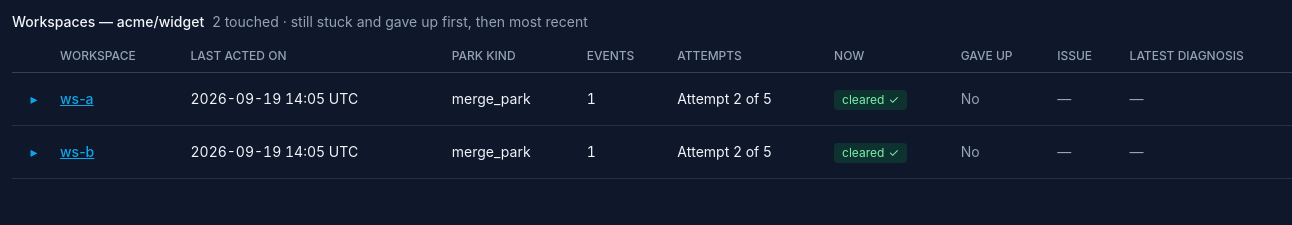
Scenario: UnblockerWorkspacesTable — expandable events › expands one workspace without expanding another
This screenshot has width=1292, height=225.
Click the button "▸" next to "ws-a": (34, 99) x1=12 y1=77 x2=56 y2=121
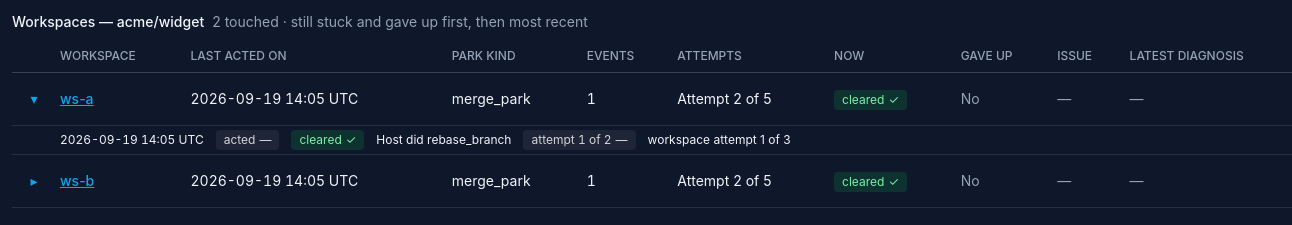
Expected: the row with test id "unblocker-event-1" is shown, x1=12 y1=126 x2=1291 y2=154
